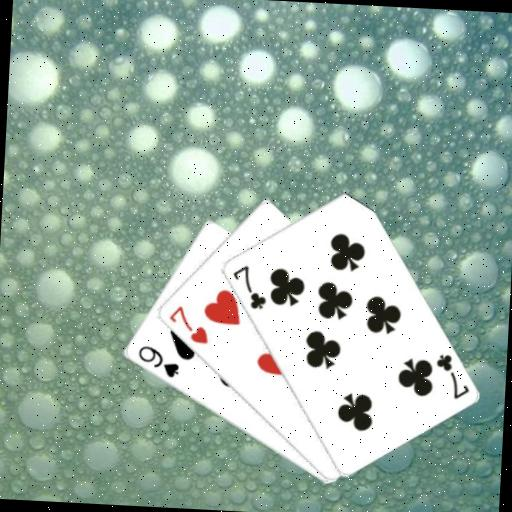7C: (431, 350, 473, 401), (228, 261, 269, 311)
7H: (164, 302, 212, 346)
9S: (134, 342, 182, 380)
